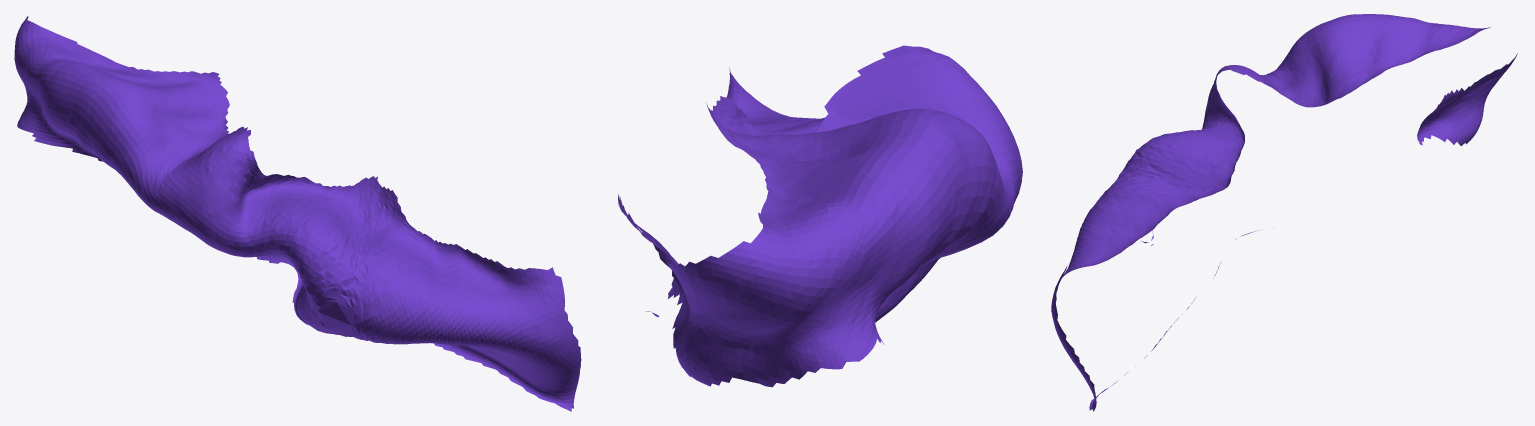
File: lh_precentral.glb
3 views of the same model, side by side, from view 1: azimuth 30°, elevation 25°; view 2: azimuth 150°, elevation 25°; view 3: azimuth 270°, elevation 25° (orthographic). The views are drawn at different scales.
Parts seen in each view (by area): view 1: world; view 2: world; view 3: world.
Part boxes in pixels (x1,y1,x2,y2): world: (14, 16, 581, 411); world: (618, 45, 1022, 387); world: (1051, 14, 1517, 411).
Size of the model in its own units: 61.1 by 48.9 by 79.98.
